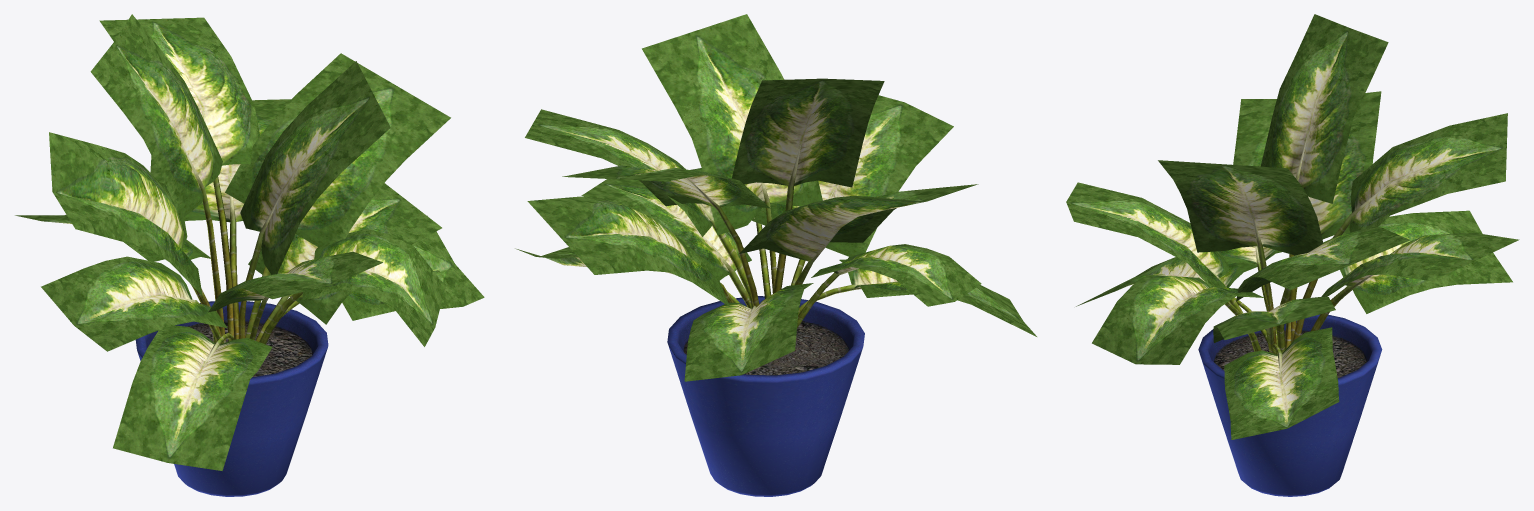
File: Furniture_foliageplant_02b_LOD0 #39120.fbx
3 views of the same model, side by side, from view 1: azimuth 30°, elevation 25°; view 2: azimuth 150°, elevation 25°; view 3: azimuth 270°, elevation 25° (orthographic). The views are drawn at different scales.
Parts seen in each view (by area): view 1: foliageplant_02b_B, foliageplant_02b_A; view 2: foliageplant_02b_B, foliageplant_02b_A; view 3: foliageplant_02b_B, foliageplant_02b_A.
Boxes of the visible parts, x1=… form: foliageplant_02b_B: x1=15, y1=14, x2=484, y2=470; foliageplant_02b_A: x1=135, y1=301, x2=328, y2=496; foliageplant_02b_B: x1=515, y1=14, x2=1036, y2=381; foliageplant_02b_A: x1=667, y1=296, x2=864, y2=496; foliageplant_02b_B: x1=1066, y1=14, x2=1519, y2=439; foliageplant_02b_A: x1=1198, y1=314, x2=1382, y2=496.
Bounding box in the file's own units: 0.4925 × 0.4949 × 0.4934.
2 materials, 2 textured.
